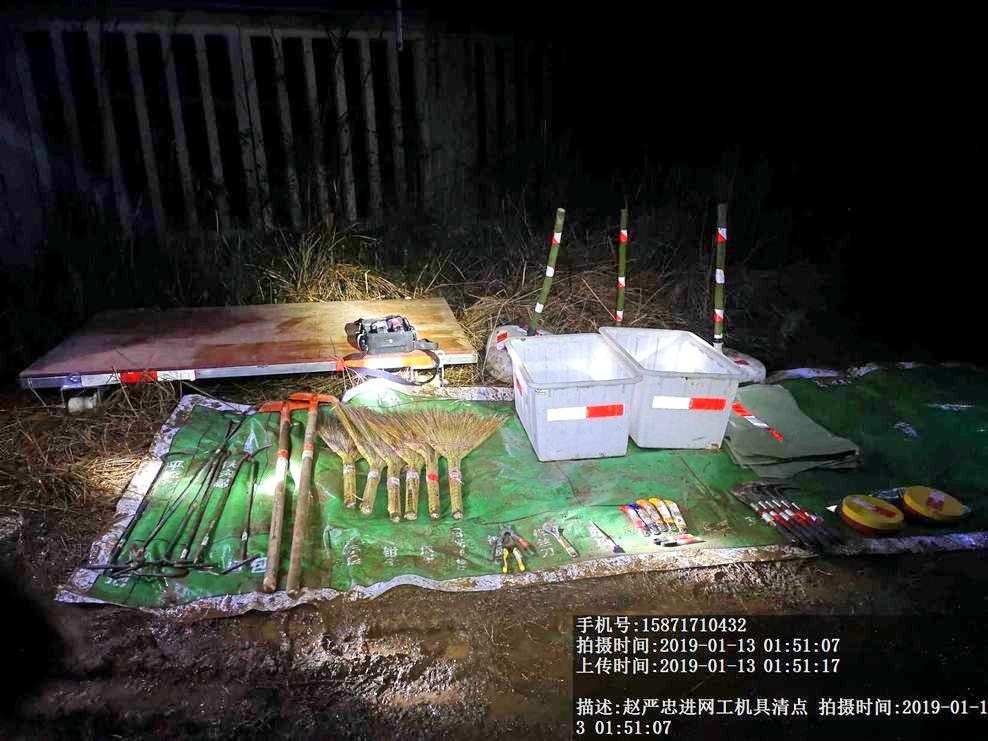BZD: (731, 388, 864, 485)
GJB: (342, 309, 441, 359)
JC: (837, 489, 905, 537), (902, 479, 970, 526)
SB: (414, 406, 510, 521), (317, 419, 368, 510)
T: (500, 331, 637, 464), (611, 323, 735, 452)
TQ: (257, 385, 296, 498), (295, 388, 330, 504)
